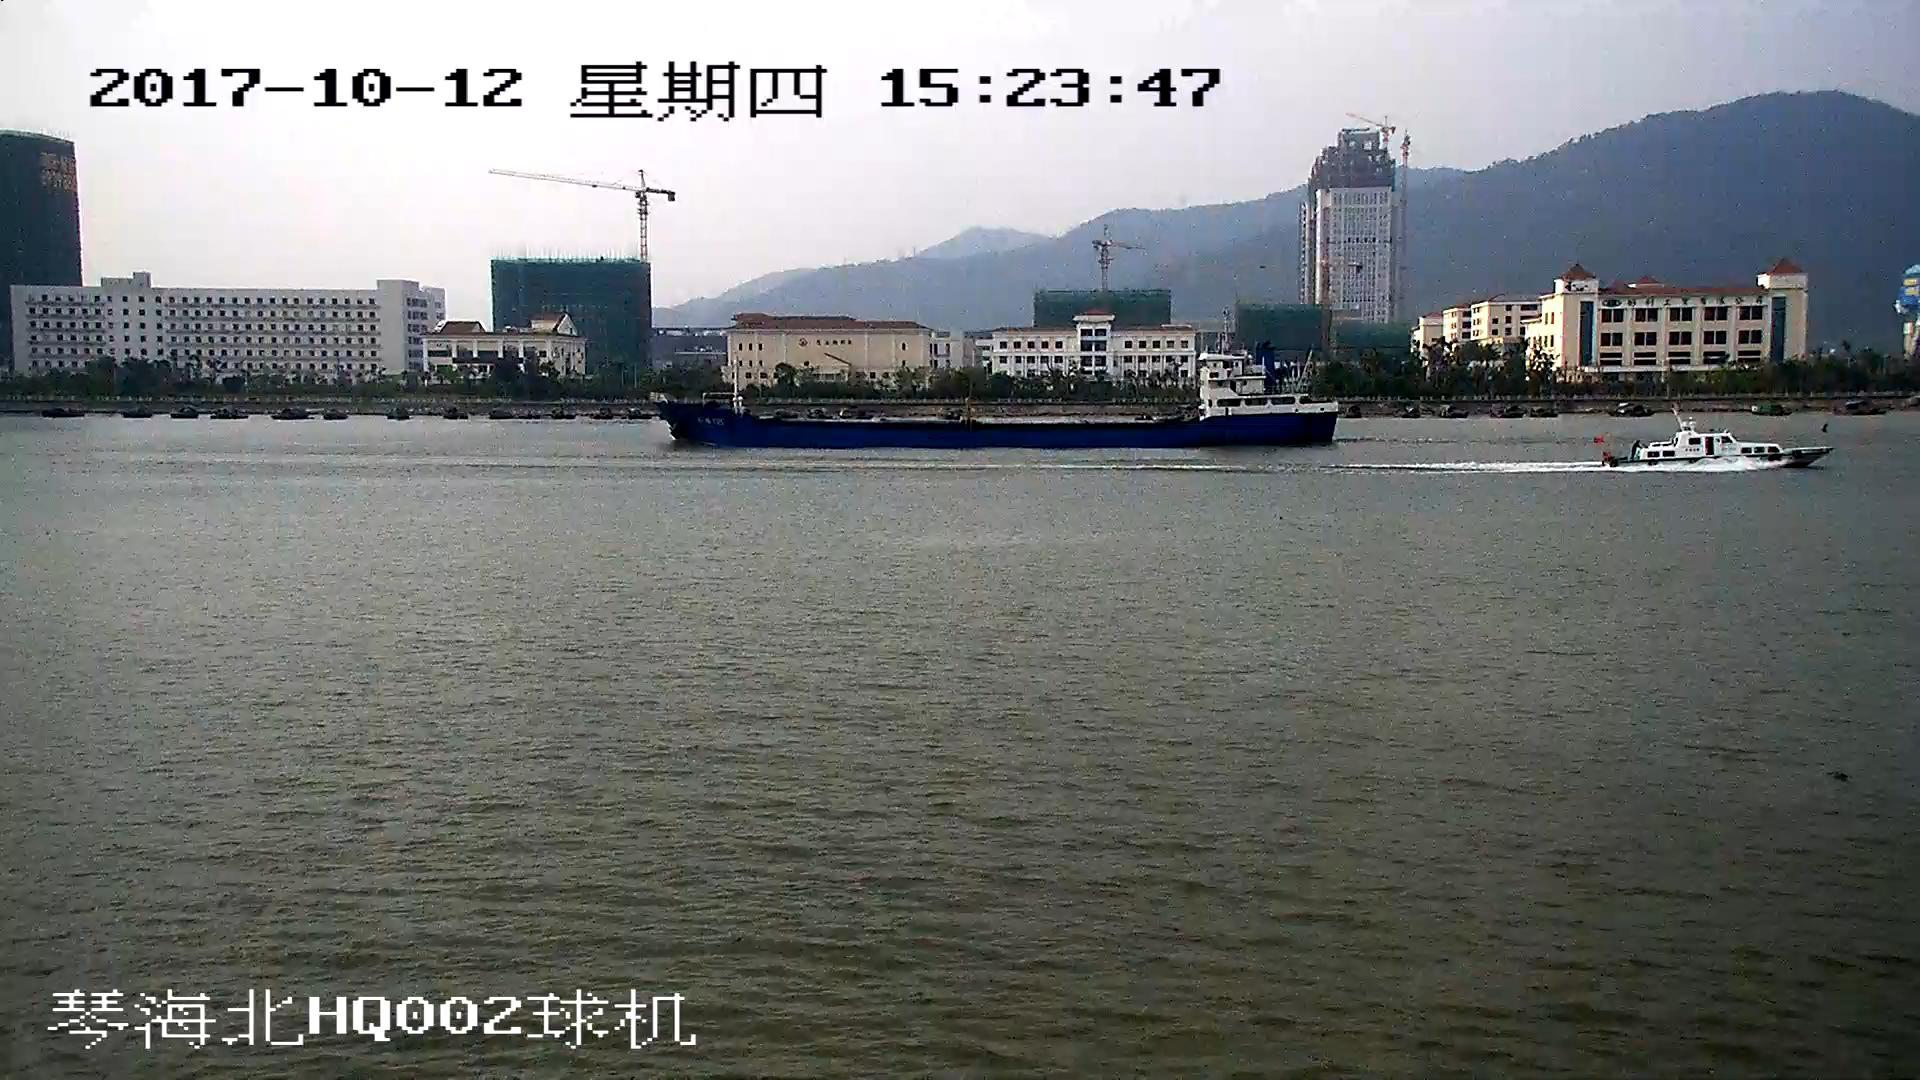Ship: (654, 324, 1341, 447), (1604, 419, 1817, 479)
